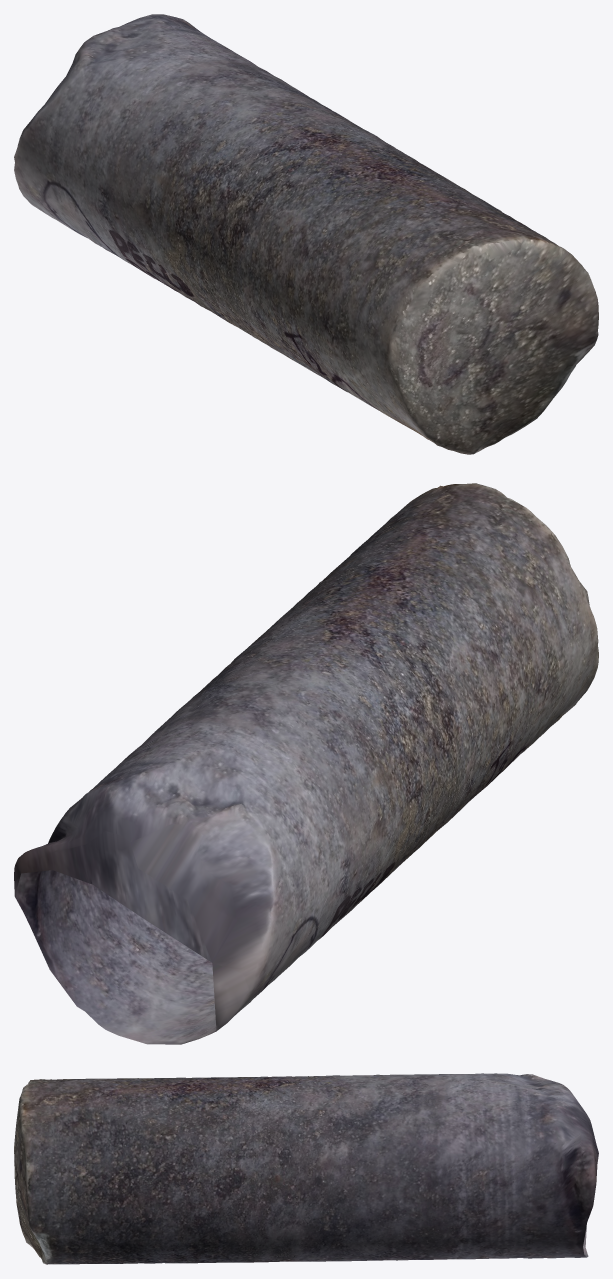
File: PECLD07755 T2.glb
3 views of the same model, one above another, from view 1: azimuth 30°, elevation 25°; view 2: azimuth 150°, elevation 25°; view 3: azimuth 270°, elevation 25° (orthographic). The views are drawn at different scales.
Visible parts, largest first — view 1: baked_mesh; view 2: baked_mesh; view 3: baked_mesh.
Boxes of the visible parts, box(x1,y1,x2,y2) form: baked_mesh: box(14, 14, 598, 454); baked_mesh: box(14, 483, 598, 1044); baked_mesh: box(14, 1073, 598, 1264).
Size of the model in its own units: 0.2473 by 0.2179 by 0.6488.
1 material, 1 textured.
